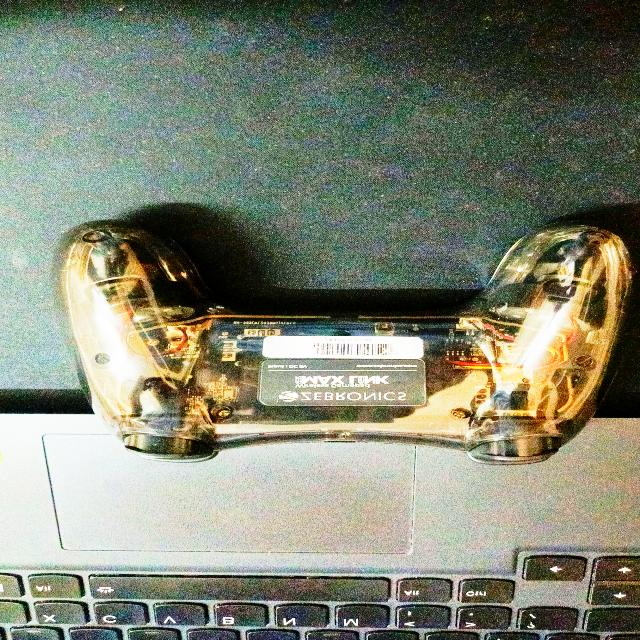gamepad: (61, 220, 634, 467)
